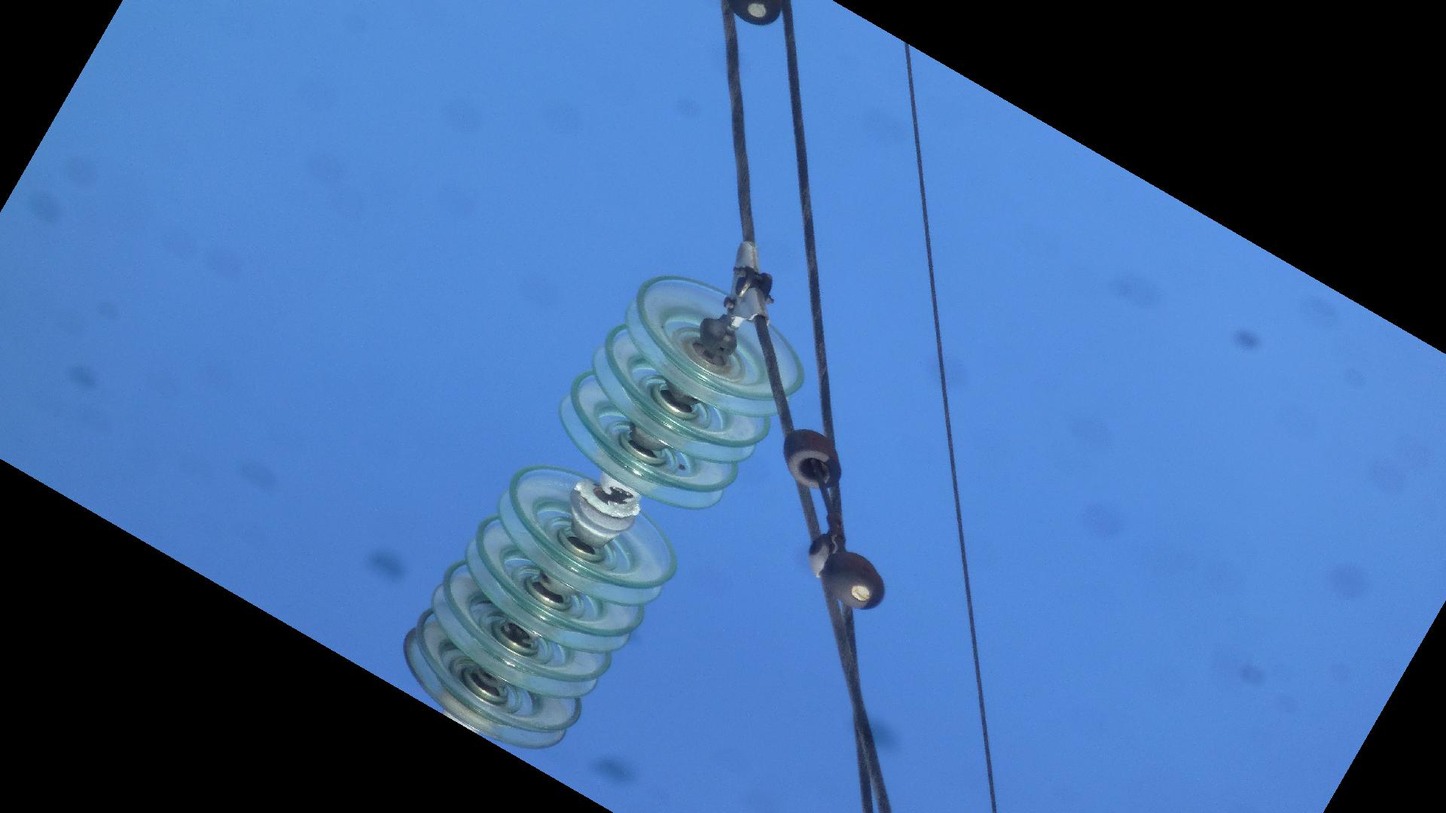insulator: (398, 270, 810, 755)
insulator_stringdrop: (494, 367, 747, 613)
